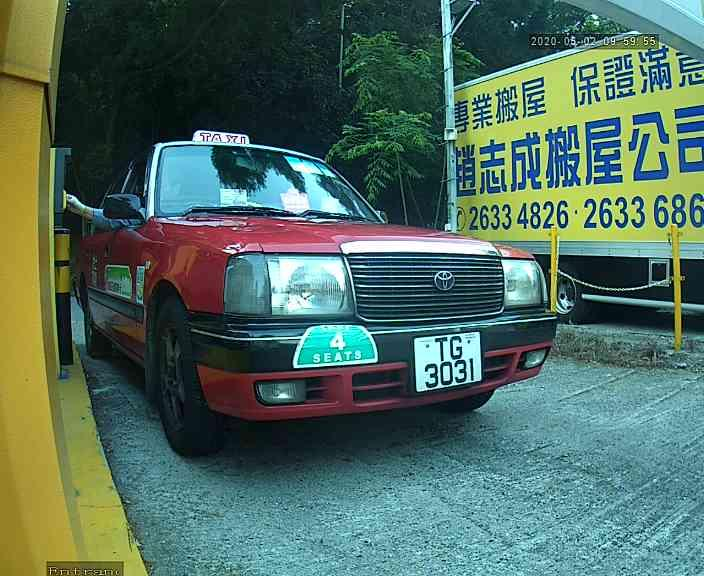Car: (63, 47, 591, 458)
License Plate: (400, 327, 488, 397)
